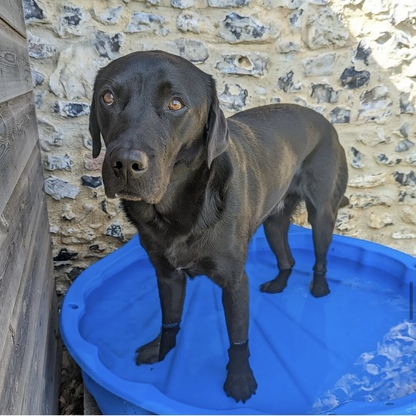labrado: (84, 48, 354, 406)
